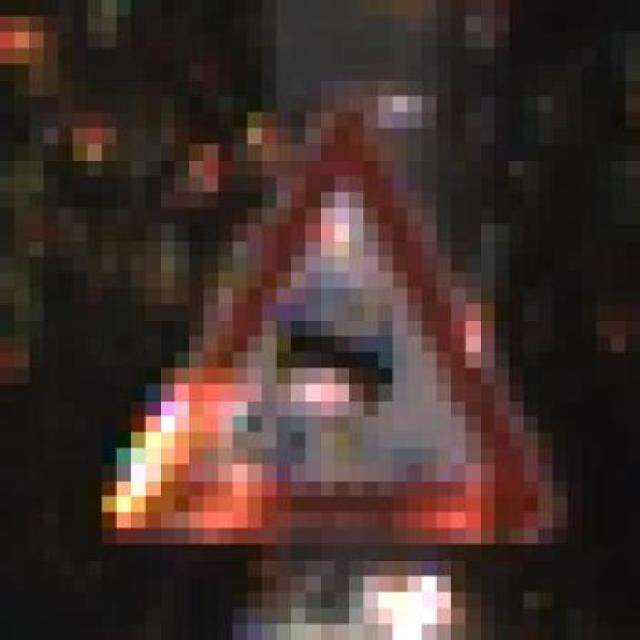Slippery Road Ahead: (58, 96, 582, 544)
